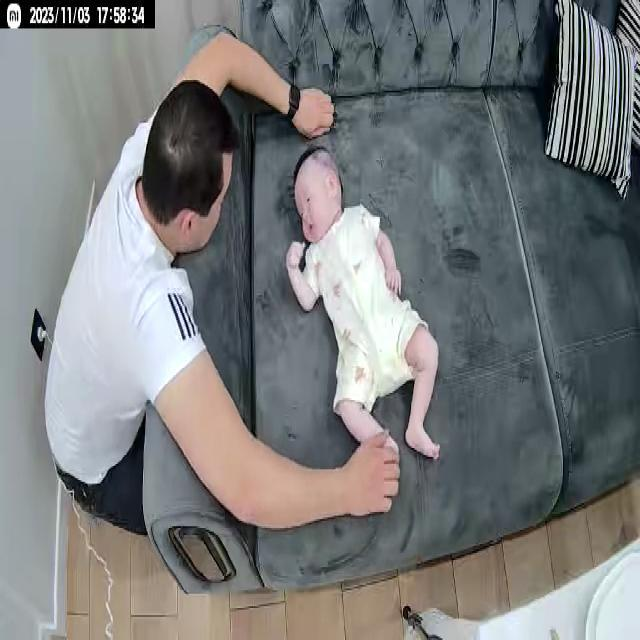baby: (284, 144, 444, 474)
